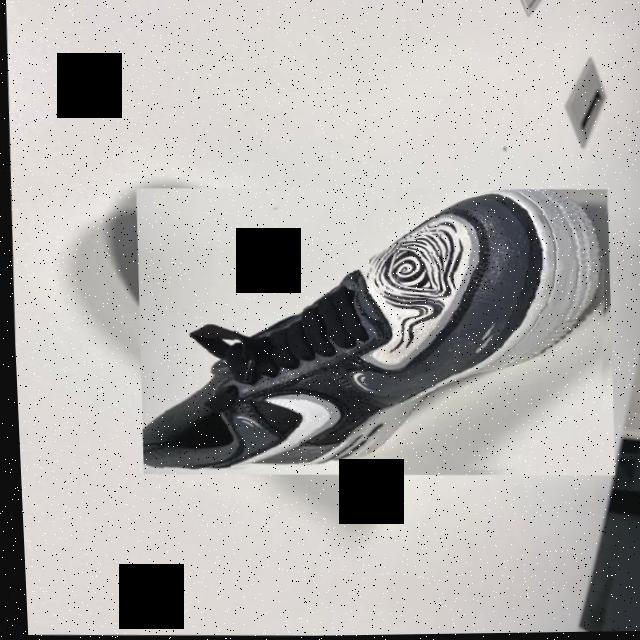shoe: (129, 183, 615, 482)
